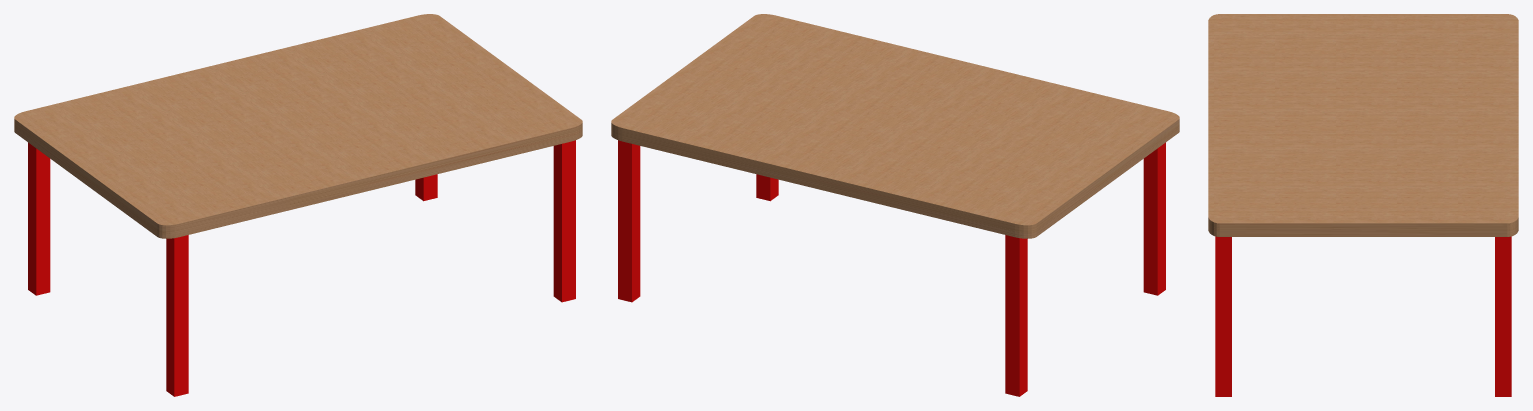
Rendered from table.glb.
3 views of the same model, side by side, from view 1: azimuth 30°, elevation 25°; view 2: azimuth 150°, elevation 25°; view 3: azimuth 270°, elevation 25° (orthographic).
Parts seen in each view (by area): view 1: Cube, Cube.002, Cube.001, Cube.004, Cube.003; view 2: Cube, Cube.004, Cube.003, Cube.002, Cube.001; view 3: Cube, Cube.001, Cube.003.
Part boxes in pixels (<box>): Cube: <box>14,14,582,238</box>; Cube.002: <box>166,235,188,396</box>; Cube.001: <box>553,140,575,302</box>; Cube.004: <box>28,142,50,295</box>; Cube.003: <box>415,174,437,201</box>; Cube: <box>611,14,1179,238</box>; Cube.004: <box>1005,235,1027,396</box>; Cube.003: <box>618,140,640,302</box>; Cube.002: <box>1143,142,1165,295</box>; Cube.001: <box>756,174,778,201</box>; Cube: <box>1208,14,1518,236</box>; Cube.001: <box>1215,236,1231,396</box>; Cube.003: <box>1495,236,1511,396</box>.
Size of the model in its own units: 12.05 by 4.76 by 7.56.
Materials: 2 (2 with a texture image).
